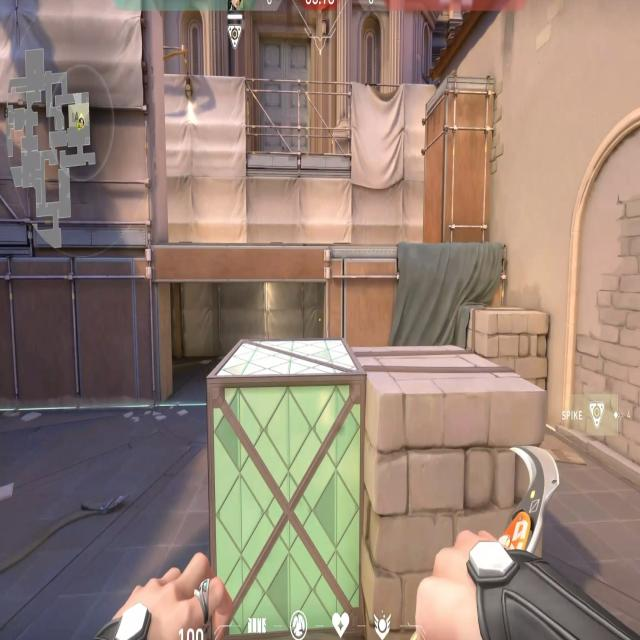A_Heaven_Box: (426, 82, 492, 252)
A_Heaven_Wall: (1, 2, 168, 246)
A_Hell: (131, 257, 348, 396)
A_Site_Box: (202, 379, 543, 640)
